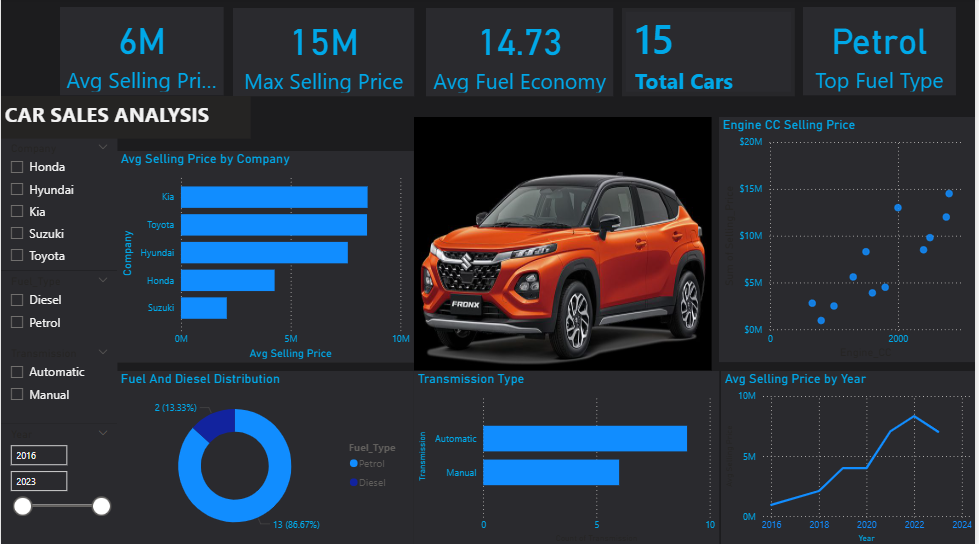

The dashboard page shown, as its layout file describes it:
{"tool":"powerbi","page":{"name":"Page 1","canvas":[1280,720],"ordinal":0},"visuals":[{"type":"card","fields":{"Values":["car_sales_analysis_dataset.Avg Selling Price"]},"box":[77.1,12.4,214.7,115.6],"z":0},{"type":"card","fields":{"Values":["car_sales_analysis_dataset.Max Selling Price"]},"box":[304.2,13.8,238.1,115.6],"z":1000},{"type":"card","fields":{"Values":["car_sales_analysis_dataset.Avg Fuel Economy"]},"box":[558.8,13.8,246.4,115.6],"z":2000},{"type":"card","fields":{"Values":["car_sales_analysis_dataset.Top Fuel Type"]},"box":[1054.3,12.4,200.9,115.6],"z":3000},{"type":"clusteredBarChart","fields":{"Y":["car_sales_analysis_dataset.Avg Selling Price"],"Category":["car_sales_analysis_dataset.Company"]},"box":[152.8,200.9,389.5,278],"z":4000},{"type":"donutChart","title":"Fuel And Diesel Distribution","fields":{"Category":["car_sales_analysis_dataset.Fuel_Type"],"Y":["CountNonNull(car_sales_analysis_dataset.Fuel_Type)"]},"box":[152.8,490,389.5,229.8],"z":5000},{"type":"scatterChart","title":"Engine CC Selling Price","fields":{"X":["car_sales_analysis_dataset.Engine_CC"],"Y":["Sum(car_sales_analysis_dataset. Selling_Price )"]},"box":[942.8,156.9,337.2,322.1],"z":6000},{"type":"lineChart","fields":{"Category":["car_sales_analysis_dataset.Year"],"Y":["car_sales_analysis_dataset.Avg Selling Price"]},"box":[945.5,490,334.5,229.8],"z":7000},{"type":"clusteredBarChart","title":"Transmission Type","fields":{"Category":["car_sales_analysis_dataset.Transmission"],"Y":["CountNonNull(car_sales_analysis_dataset.Transmission)"]},"box":[542.3,490,400.5,229.8],"z":8000},{"type":"slicer","fields":{"Values":["car_sales_analysis_dataset.Company"]},"box":[0,184.5,153,174.5],"z":9000},{"type":"slicer","fields":{"Values":["car_sales_analysis_dataset.Fuel_Type"]},"box":[0,359,153,107.3],"z":10000},{"type":"slicer","fields":{"Values":["car_sales_analysis_dataset.Transmission"]},"box":[0,453.4,153,105.8],"z":11000},{"type":"slicer","fields":{"Values":["car_sales_analysis_dataset.Year"]},"box":[0,559.2,153,160.2],"z":12000},{"type":"image","box":[542.3,156.9,390.9,333.1],"z":13000},{"type":"textbox","box":[0,128.7,327.5,55.8],"z":14000},{"type":"cardVisual","fields":{"Data":["car_sales_analysis_dataset.Total Cars"]},"box":[816.2,13.8,227.1,115.6],"z":14001}]}

Visuals, with their boxes in screenshot pixels (x1, y1, x2, y2), scaled from the page's 1280x720 canvas onto the 979x544 screenshot:
card - car_sales_analysis_dataset.Avg Selling Price: bbox(59, 9, 223, 97)
card - car_sales_analysis_dataset.Max Selling Price: bbox(233, 10, 415, 98)
card - car_sales_analysis_dataset.Avg Fuel Economy: bbox(427, 10, 616, 98)
card - car_sales_analysis_dataset.Top Fuel Type: bbox(806, 9, 960, 97)
clusteredBarChart - car_sales_analysis_dataset.Avg Selling Price x car_sales_analysis_dataset.Company: bbox(117, 152, 415, 362)
"Fuel And Diesel Distribution" donutChart: bbox(117, 370, 415, 543)
"Engine CC Selling Price" scatterChart: bbox(721, 119, 978, 362)
lineChart - car_sales_analysis_dataset.Year x car_sales_analysis_dataset.Avg Selling Price: bbox(723, 370, 978, 543)
"Transmission Type" clusteredBarChart: bbox(415, 370, 721, 543)
slicer - car_sales_analysis_dataset.Company: bbox(0, 139, 117, 271)
slicer - car_sales_analysis_dataset.Fuel_Type: bbox(0, 271, 117, 352)
slicer - car_sales_analysis_dataset.Transmission: bbox(0, 343, 117, 423)
slicer - car_sales_analysis_dataset.Year: bbox(0, 423, 117, 543)
image: bbox(415, 119, 714, 370)
textbox: bbox(0, 97, 250, 139)
cardVisual - car_sales_analysis_dataset.Total Cars: bbox(624, 10, 798, 98)
